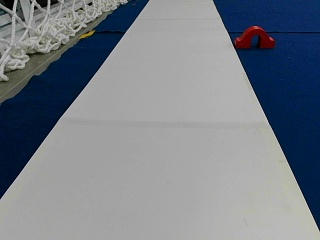bridge: (236, 25, 274, 47)
